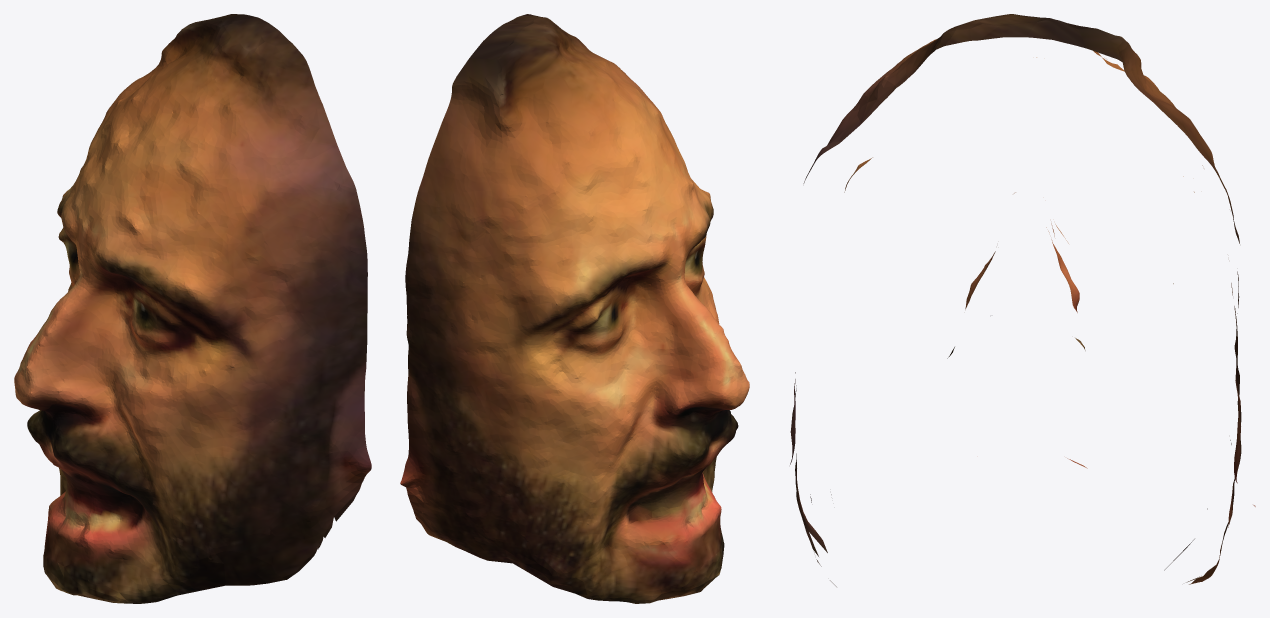
File: Faccia 1.glb
The picture shows the model from 3 angles, left to right: view 1: azimuth 30°, elevation 25°; view 2: azimuth 150°, elevation 25°; view 3: azimuth 270°, elevation 25°; orthographic projection. The views are drawn at different scales.
Parts seen in each view (by area): view 1: mesh; view 2: mesh; view 3: mesh.
Part boxes in pixels (box(x1,y1,x2,y2)): mesh: box(14, 14, 371, 603); mesh: box(400, 14, 749, 603); mesh: box(790, 14, 1255, 586).
Bounding box in the file's own units: 0.1042 × 0.2089 × 0.142.
Materials: 1 (1 with a texture image).
